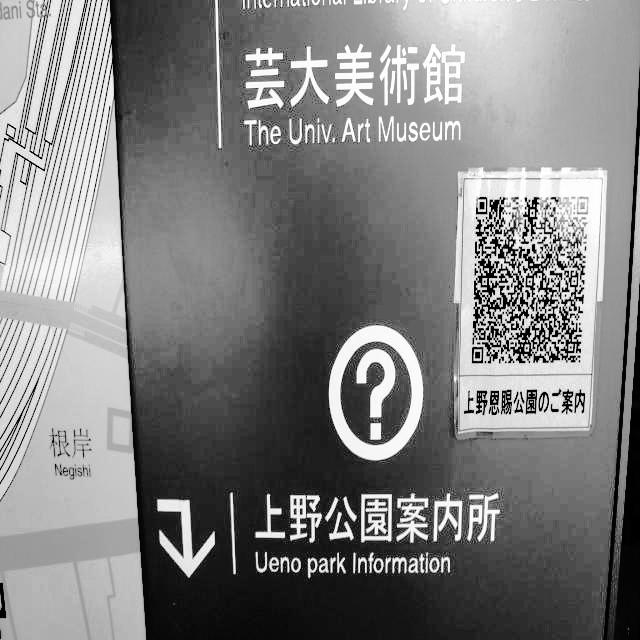qr_code: (472, 197, 588, 363)
